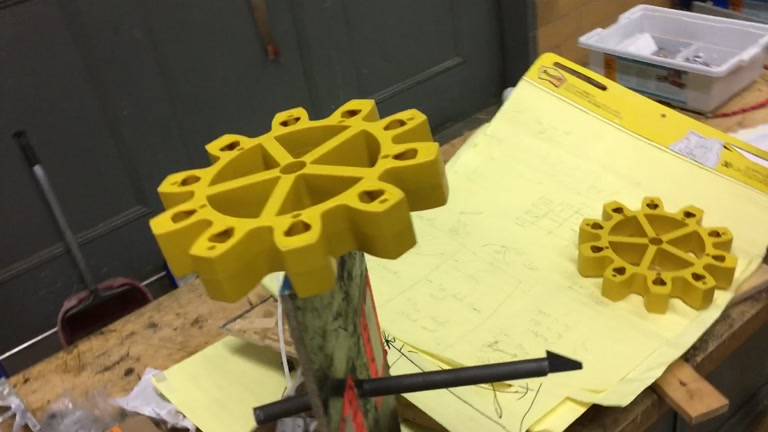gear: (148, 96, 449, 304), (575, 195, 737, 314)
